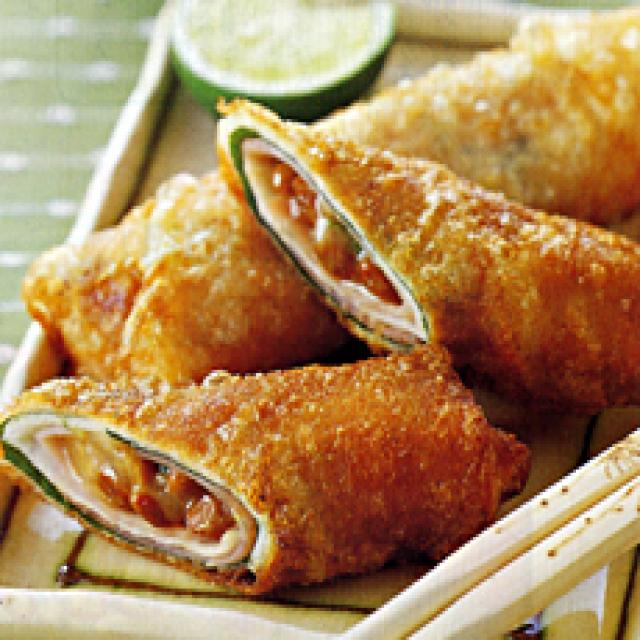鸡蛋料理: (0, 71, 640, 592)
